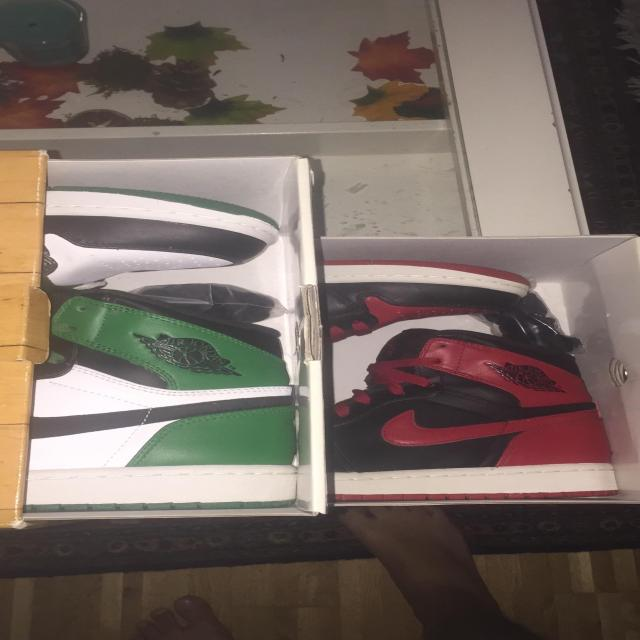shoe: (63, 300, 292, 528), (331, 336, 631, 504), (43, 185, 281, 288), (317, 253, 537, 336)
